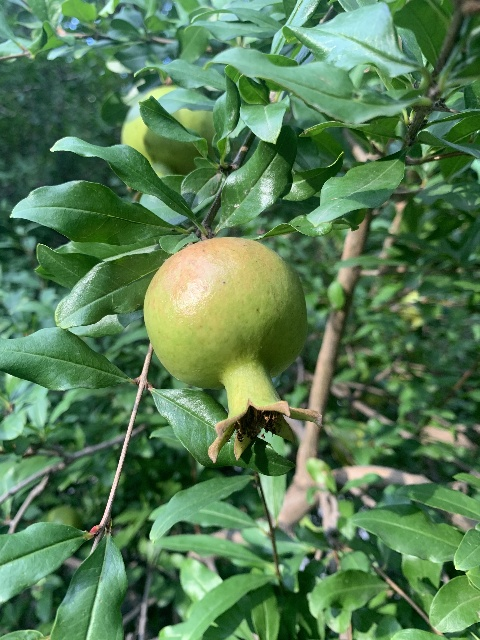mid-growth: (142, 236, 323, 464), (120, 85, 215, 178)
